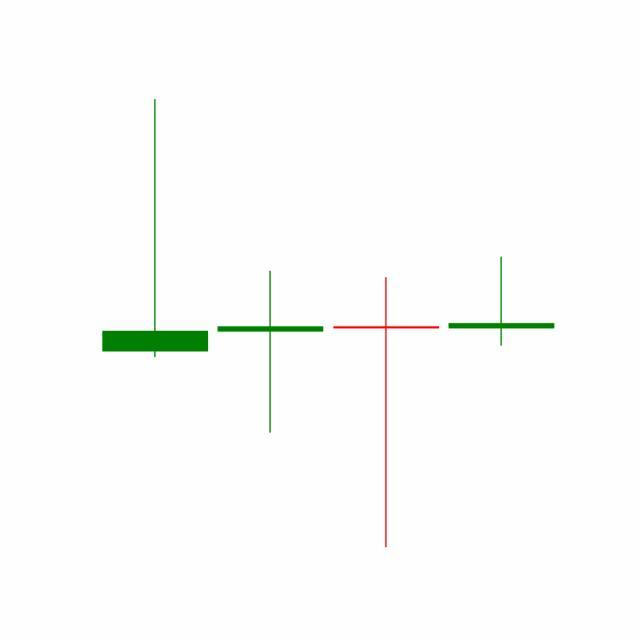Spinning Top: (329, 274, 445, 551)
